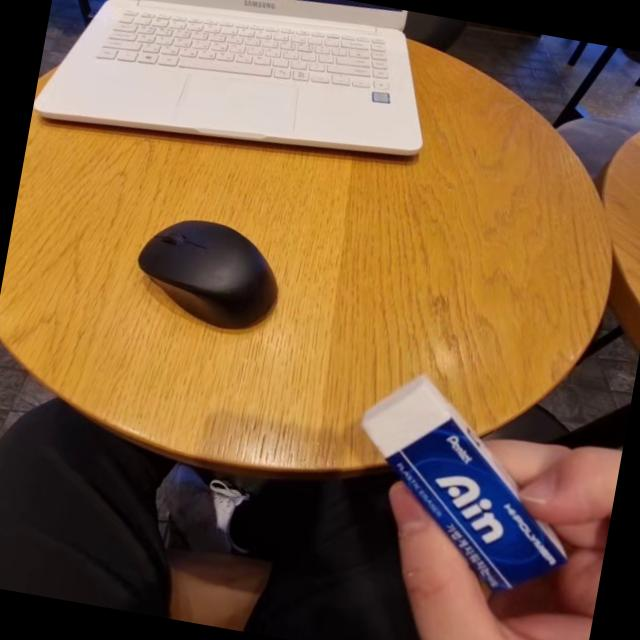eraser: (344, 366, 586, 590)
grab_eraser: (337, 357, 630, 640)
mouse: (122, 210, 310, 352)
